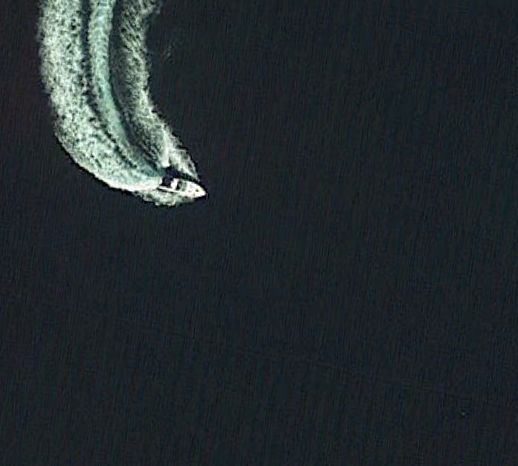boat: (155, 175, 208, 201)
